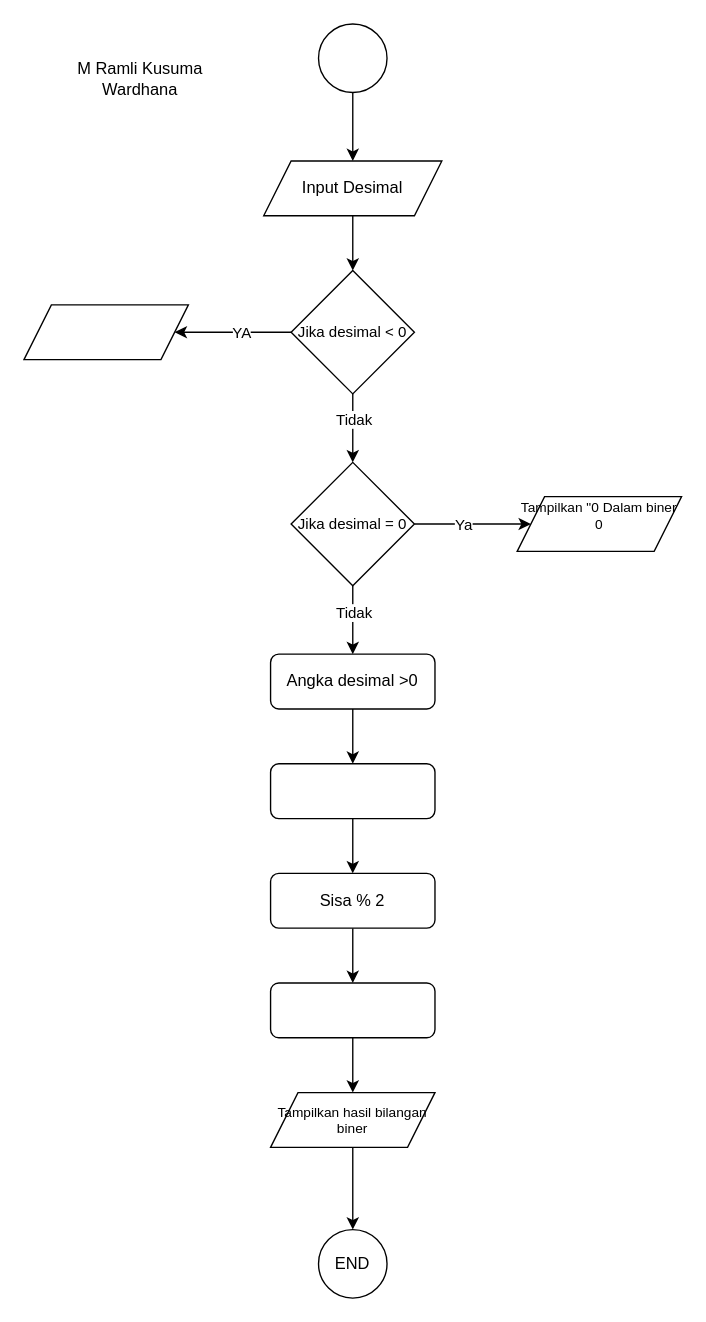
Some shapes in this 706 by 1322 pixel diagram are drawn without their labels. The shapes that lost their labels are listed below. From the top down, each one's centre as x and y in pixels, then its label:
[352,57]: START
[105,331]: Tampilkan bilangan harus > =0
[352,790]: Hasil bagi = angka // 2
[352,1010]: Angka = hasil bagi
